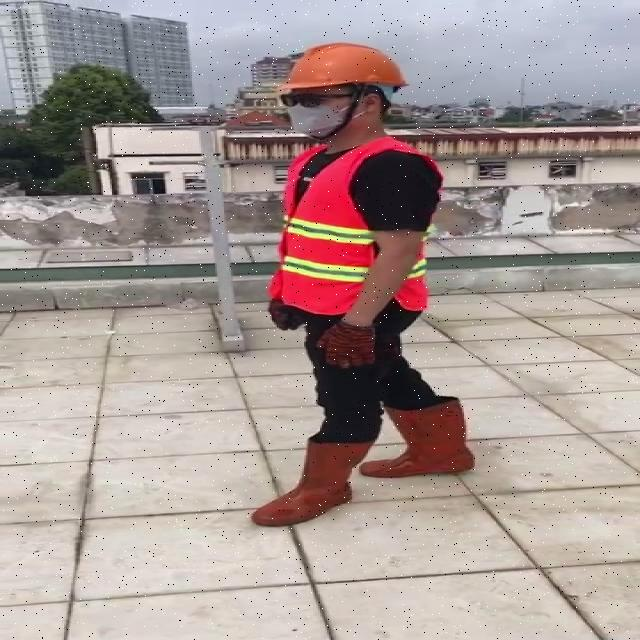Hard_hat: (274, 39, 416, 107)
Vest: (279, 139, 386, 325)
